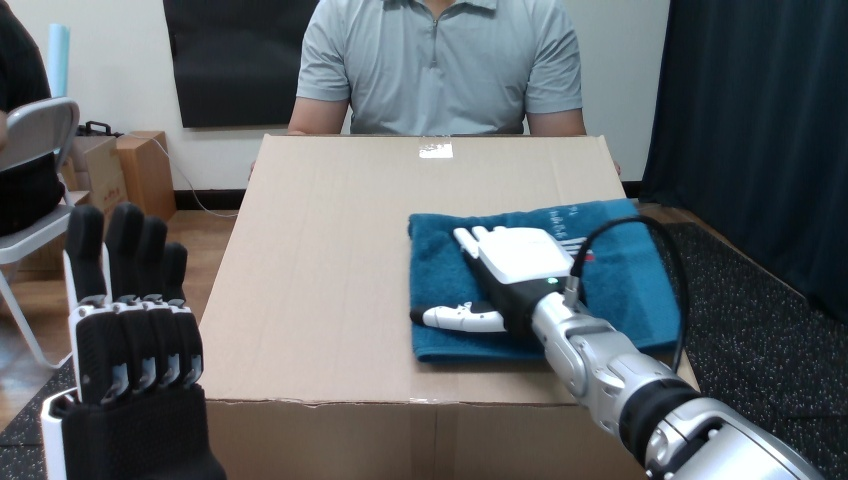left robot hand: (638, 204, 847, 478)
